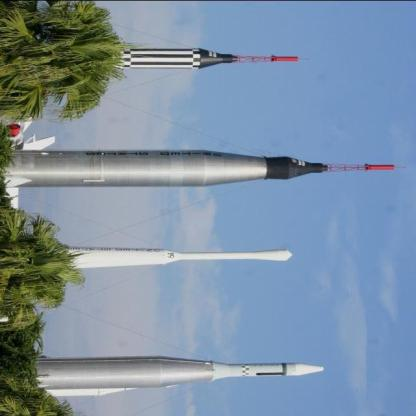MIL_TBM: (1, 148, 406, 188), (35, 356, 324, 388), (59, 245, 291, 270), (211, 358, 338, 381), (114, 48, 245, 70), (177, 249, 297, 264), (315, 160, 401, 175)
